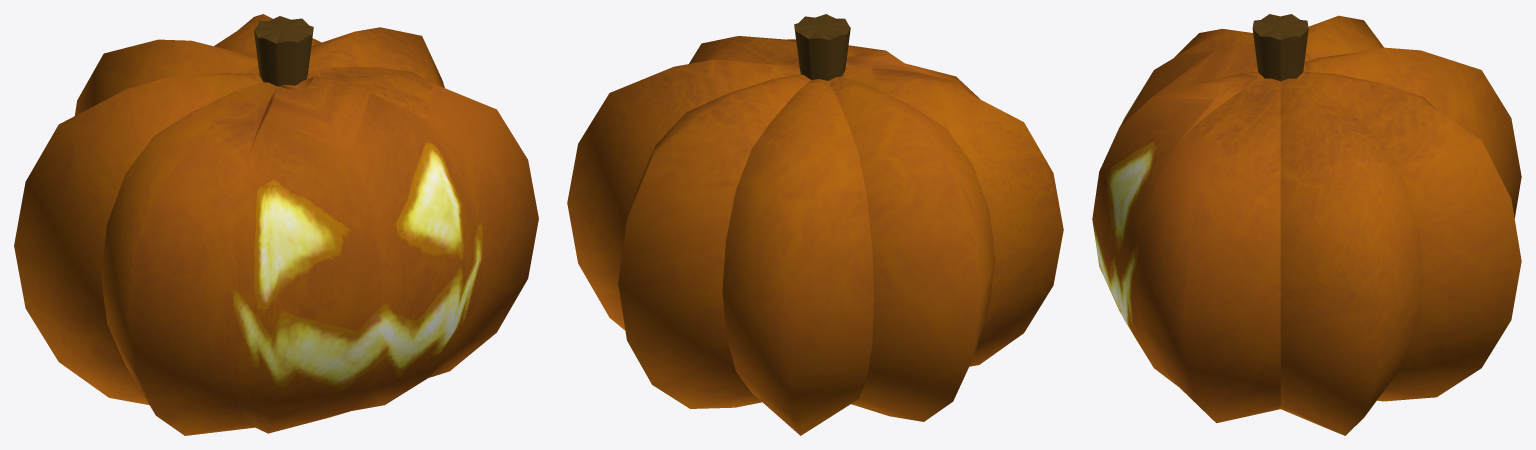
The model's file is AboboraInimigo.fbx.
3 views of the same model, side by side, from view 1: azimuth 30°, elevation 25°; view 2: azimuth 150°, elevation 25°; view 3: azimuth 270°, elevation 25° (orthographic). The views are drawn at different scales.
Visible parts, largest first — view 1: AboboraInimigo; view 2: AboboraInimigo; view 3: AboboraInimigo.
Part boxes in pixels (x1=…): AboboraInimigo: x1=14, y1=14, x2=538, y2=435; AboboraInimigo: x1=567, y1=14, x2=1063, y2=435; AboboraInimigo: x1=1092, y1=14, x2=1521, y2=435.
Size of the model in its own units: 617 by 510 by 549.
